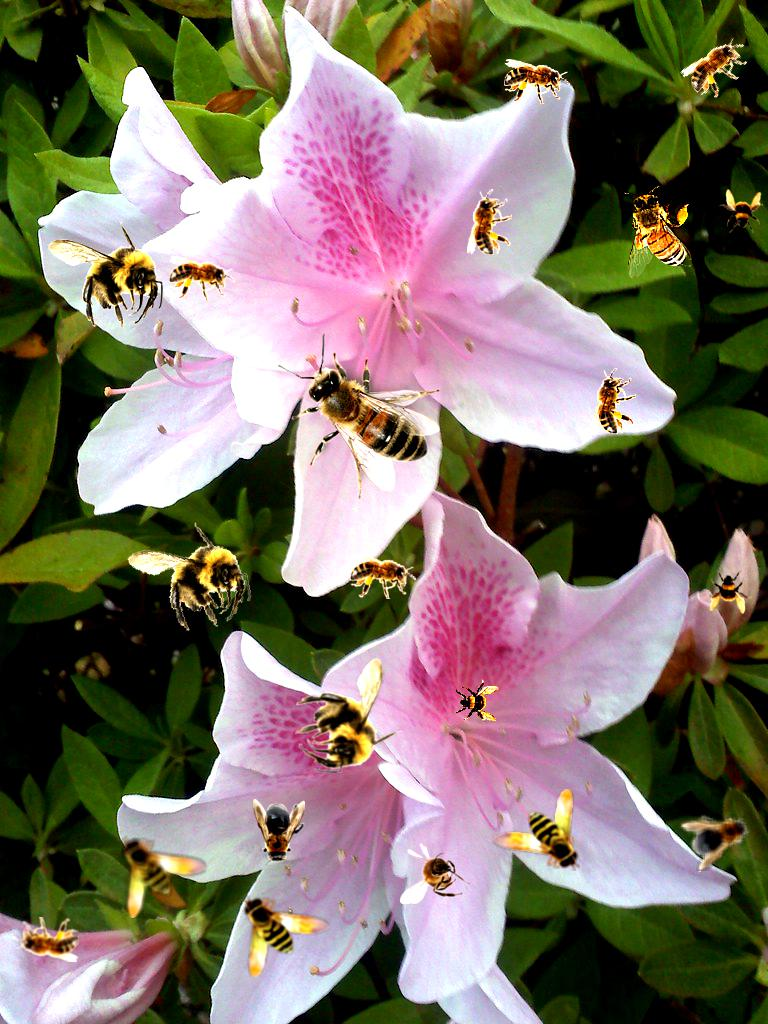Bee: (278, 333, 440, 500), (122, 514, 257, 641), (48, 221, 163, 328), (295, 658, 402, 773), (120, 836, 208, 918), (242, 895, 330, 977), (492, 789, 580, 871), (677, 797, 761, 873), (624, 186, 692, 279), (678, 27, 758, 106), (400, 843, 470, 904), (253, 799, 305, 867), (504, 59, 570, 104), (350, 554, 416, 599), (467, 189, 512, 255), (13, 917, 79, 962), (591, 368, 636, 434), (169, 256, 235, 301), (708, 570, 752, 614), (455, 679, 499, 723), (719, 189, 763, 233)
